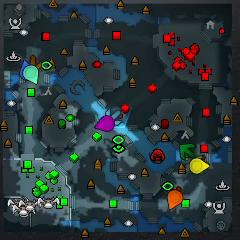p1: (20, 59, 34, 81)
p2: (23, 64, 39, 85)
p3: (94, 115, 115, 132)
p4: (189, 158, 210, 174)
p5: (168, 190, 183, 210)
x2: (193, 156, 209, 175)
x3: (106, 109, 121, 126)
x4: (179, 143, 195, 160)
